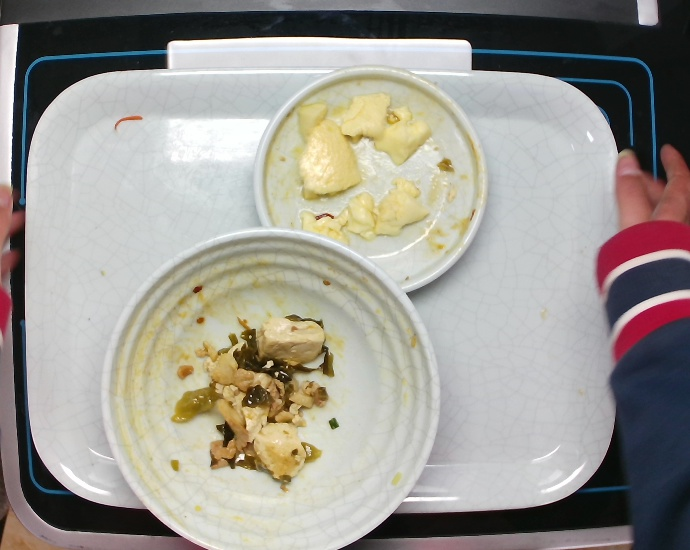JYsf-Da_Tang_Wan: (97, 222, 447, 550)
JYsf-Xiao_Yuan_Pan: (242, 64, 489, 297)
